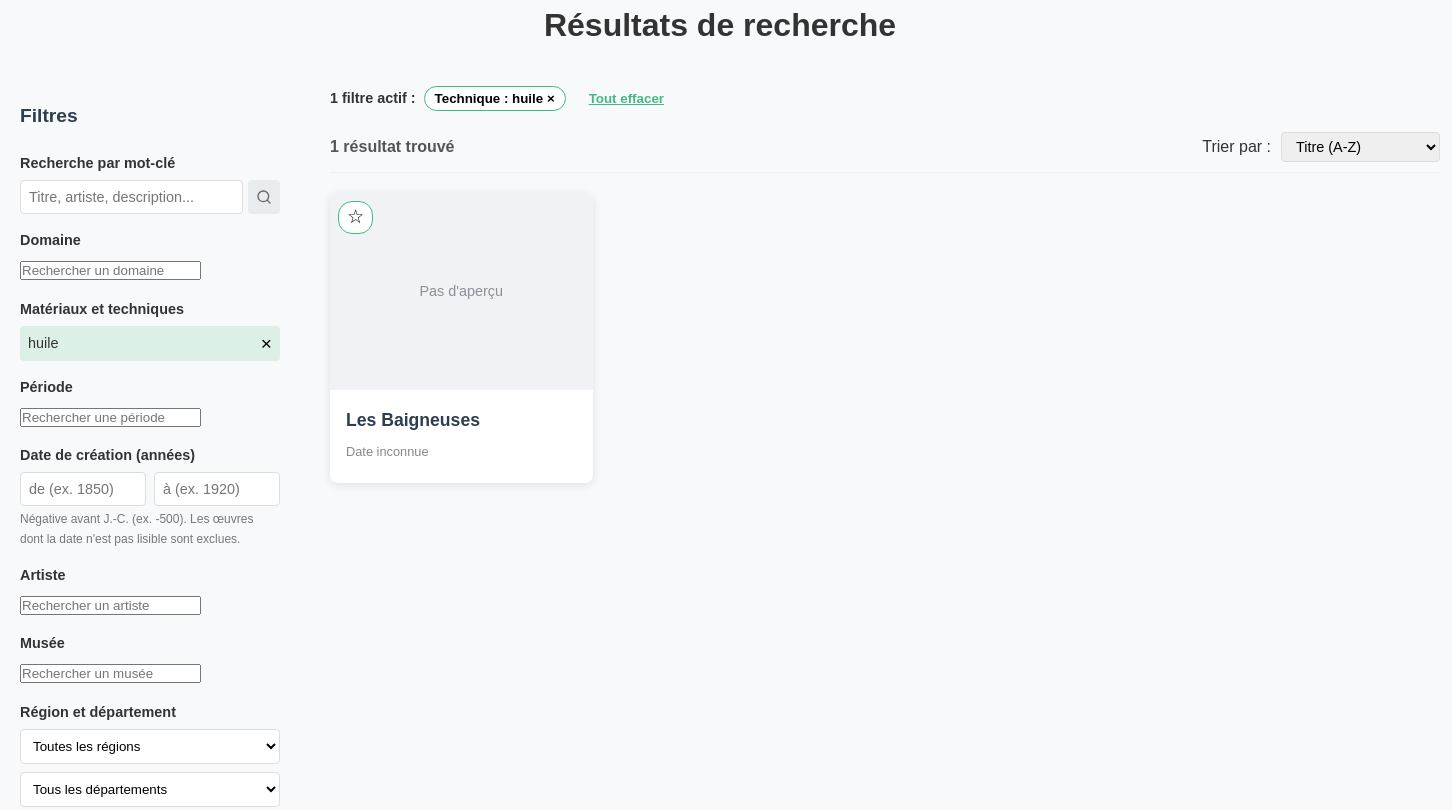
it: SearchView : filtres avancés › filtres actifs › retire le filtre de /search?techniqueId=t1&techniqueName=huile
This screenshot has width=1452, height=810.
Click the button with test id "filter-chip": (495, 99) [424,86,566,111]
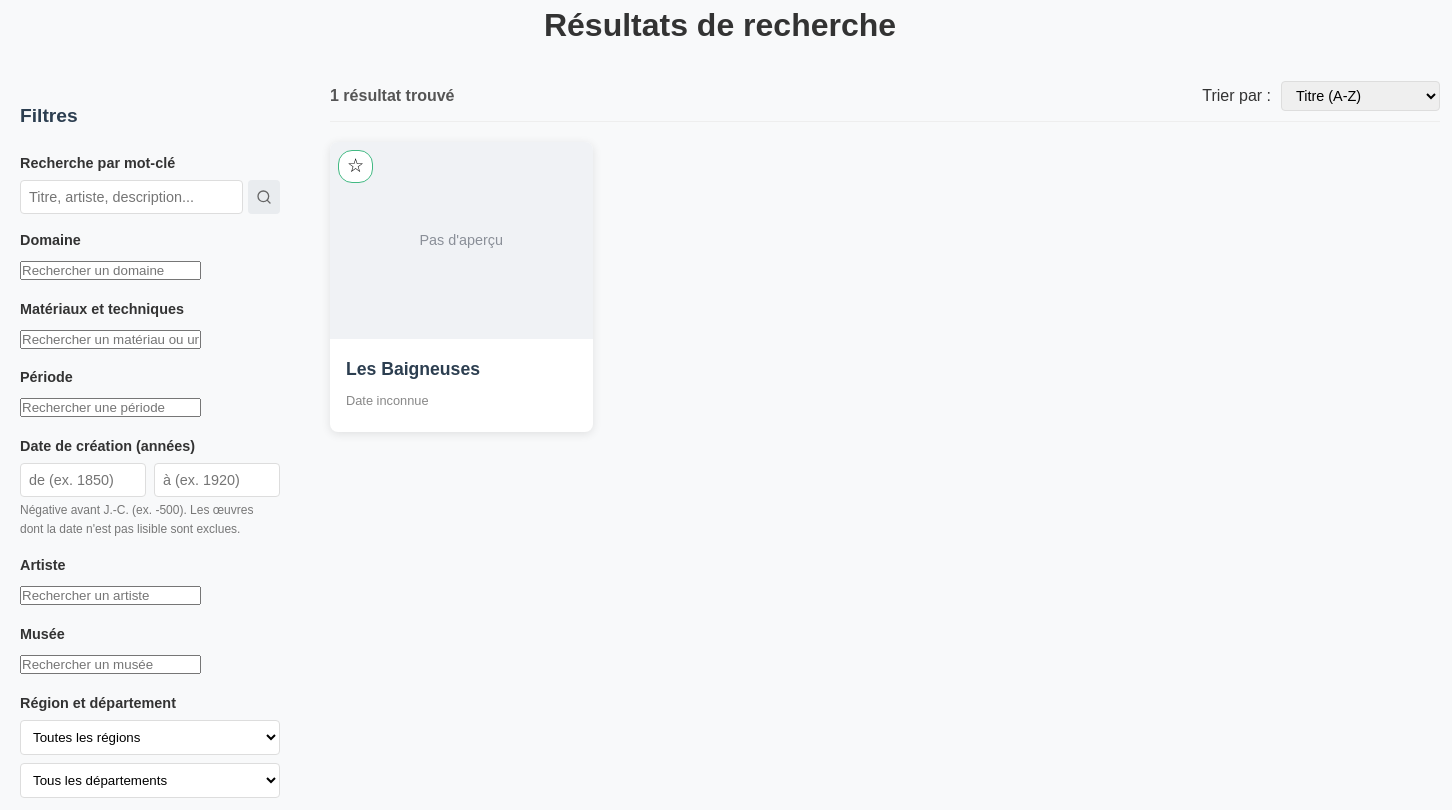
Now no buttons with test id "filter-chip" are shown
